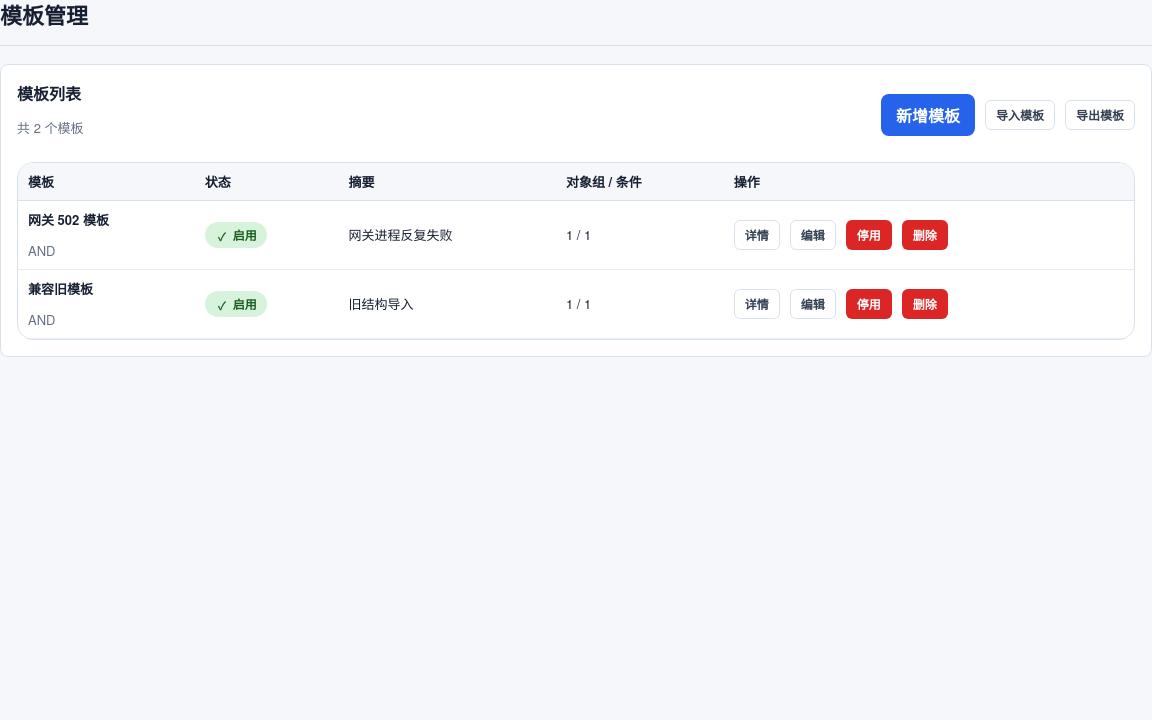
Scenario: TemplatesPage › fills step form when editing existing template and supports list actions
Expected: the text "网关 502 模板" is shown, [28, 210, 109, 229]
Click the button "编辑" in the row of "网关 502 模板". click: (813, 235)
box: [790, 220, 836, 250]
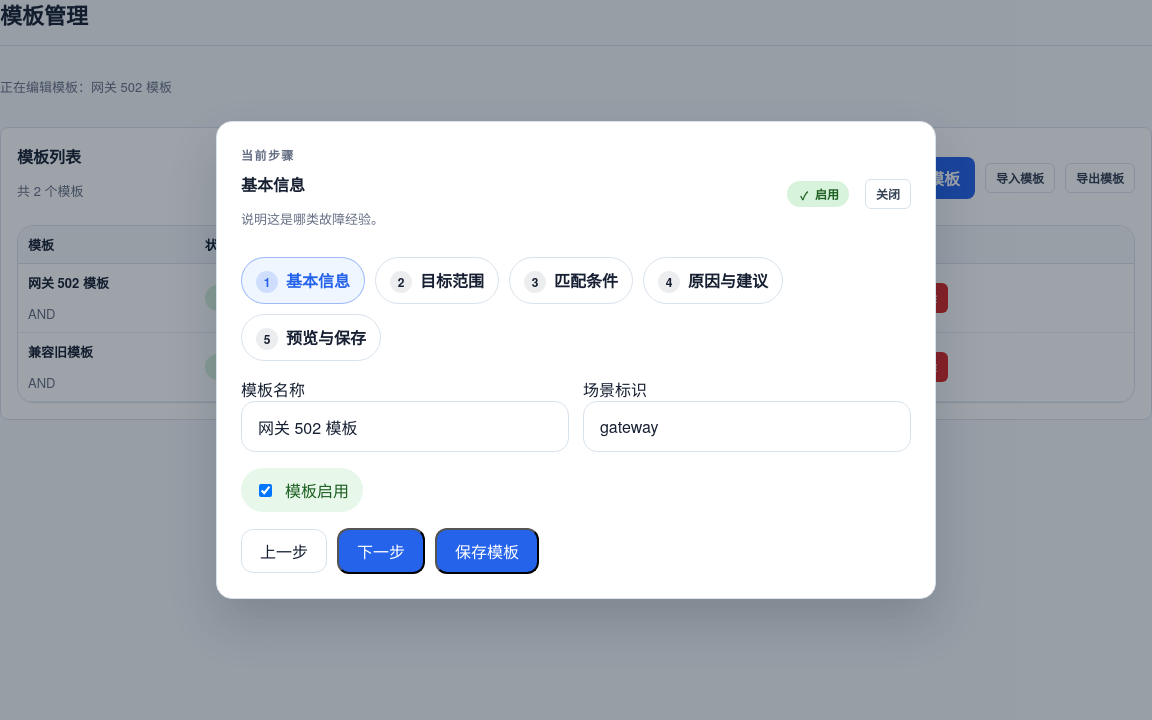
Expected: the text "正在编辑模板：网关 502 模板" is shown, [0, 77, 172, 96]
Expected: the field labelled "模板名称" holds "网关 502 模板", [241, 401, 569, 452]
Click the button "2 目标范围". click: (437, 280)
box: [375, 257, 499, 304]
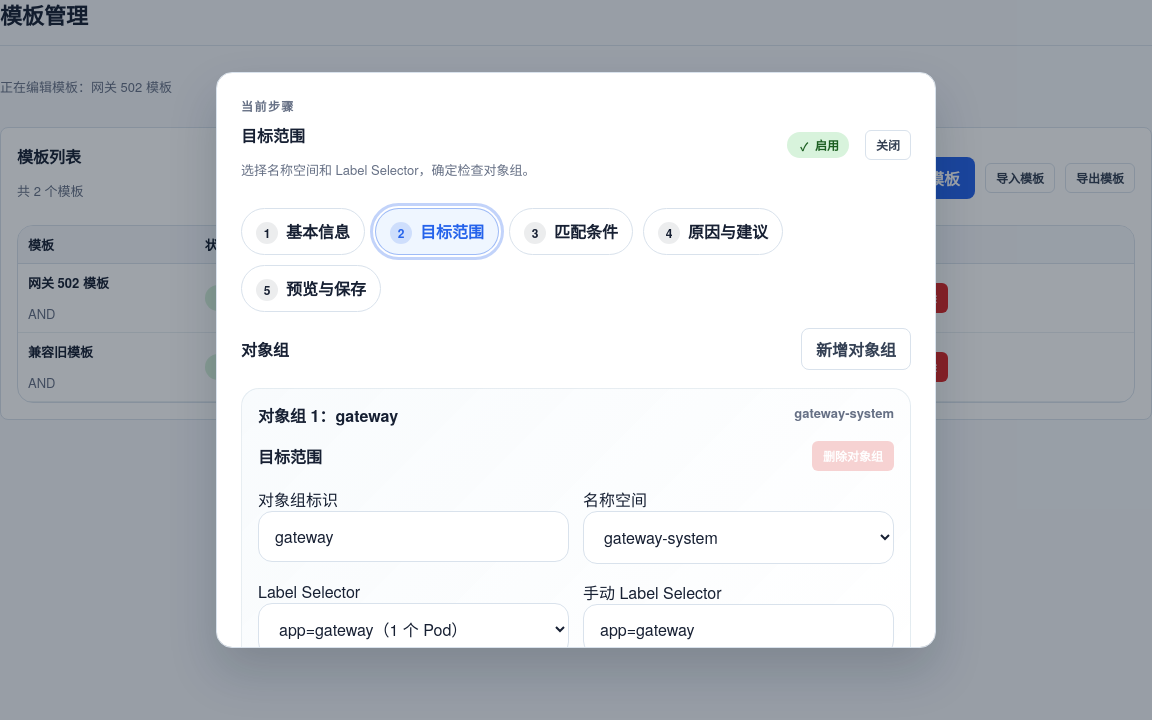
Expected: the dropdown labelled "名称空间" shows "gateway-system", [583, 511, 894, 564]
Click the button "3 匹配条件". click: (571, 232)
box: [509, 208, 633, 255]
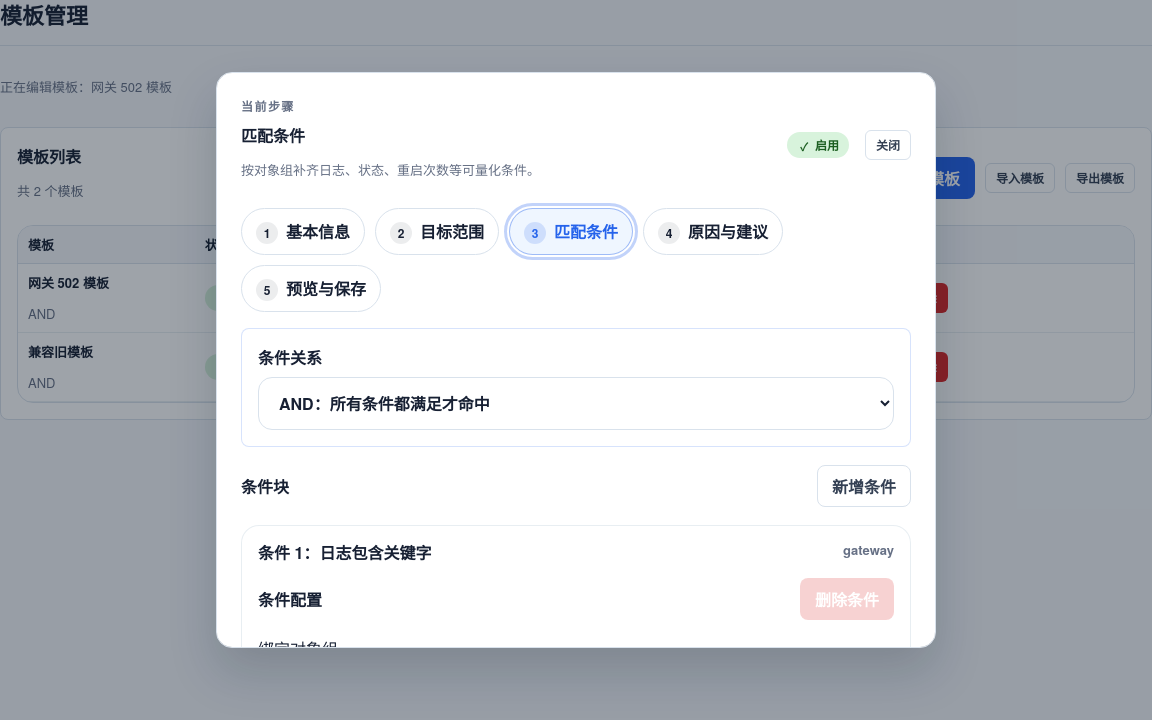
Click the button "4 原因与建议". click: (713, 232)
box: [643, 208, 783, 255]
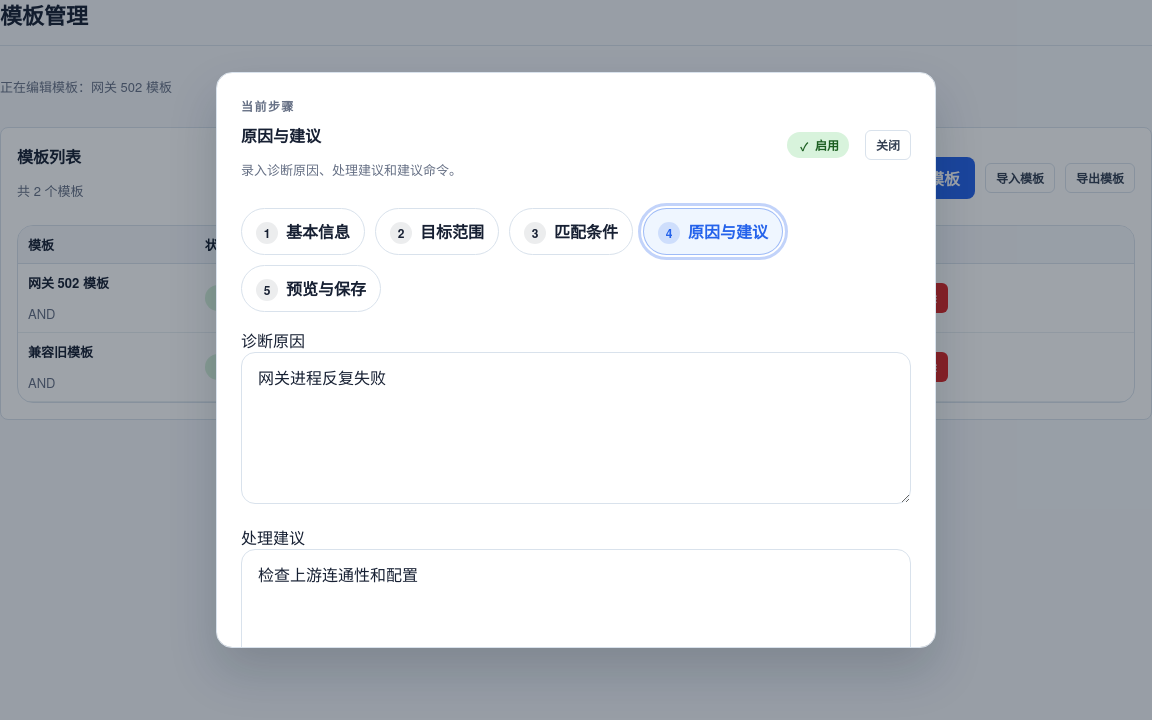
Expected: the text box labelled "诊断原因" holds "网关进程反复失败", [241, 352, 911, 504]
Click the button "关闭". click: (888, 144)
box: [865, 130, 911, 160]
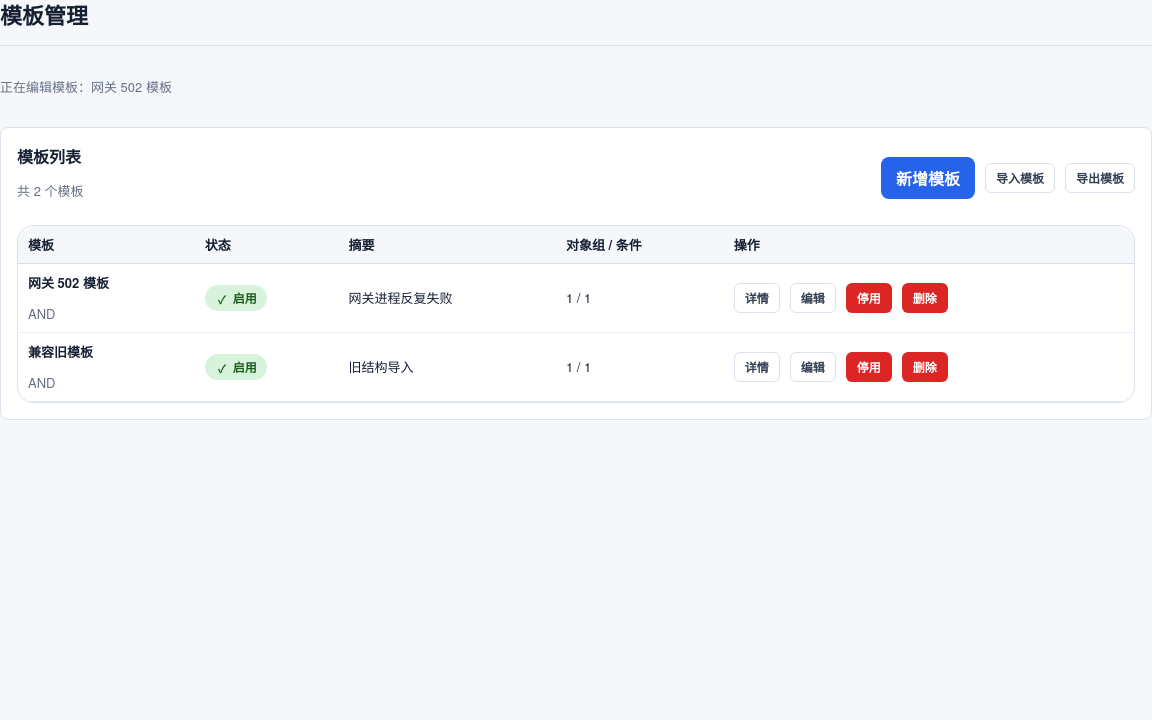
Expected: the text "网关 502 模板" is shown, [28, 273, 109, 292]
Expected: the dialog "模板录入器" is gone
Click the button "停用" in the row of "网关进程反复失败". click: (869, 298)
box: [846, 283, 892, 313]
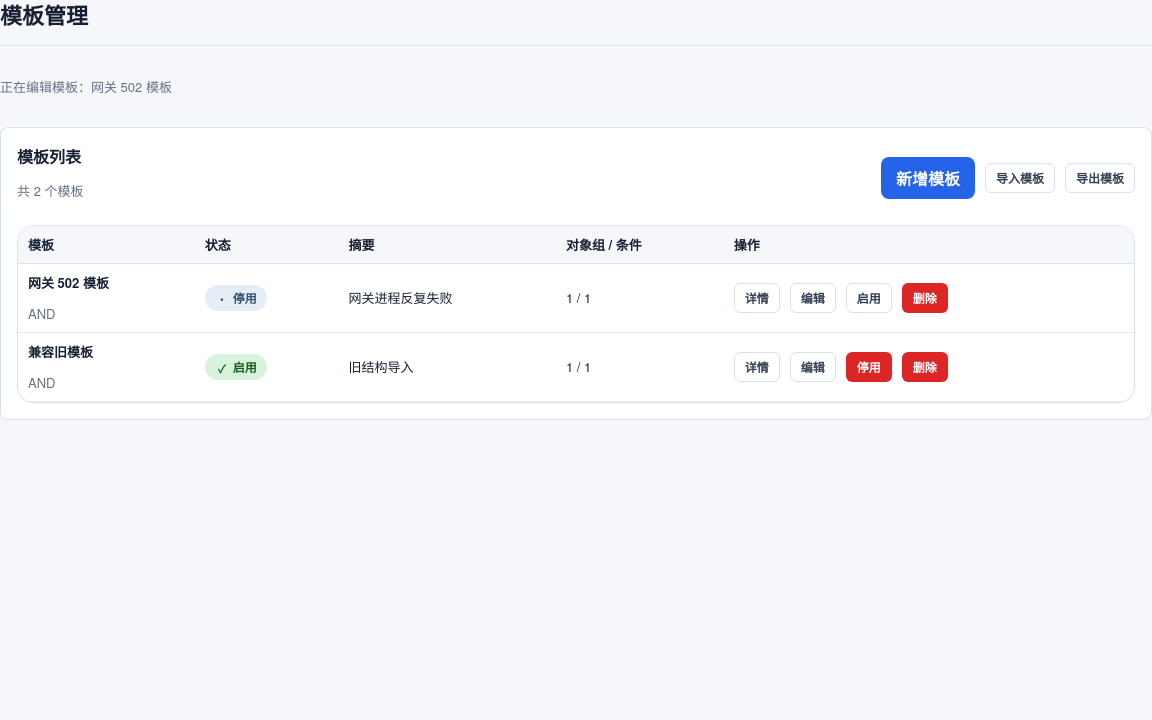
Expected: the text "停用" is shown, [233, 289, 257, 307]
Expected: the button "启用" is shown, [846, 283, 892, 313]
